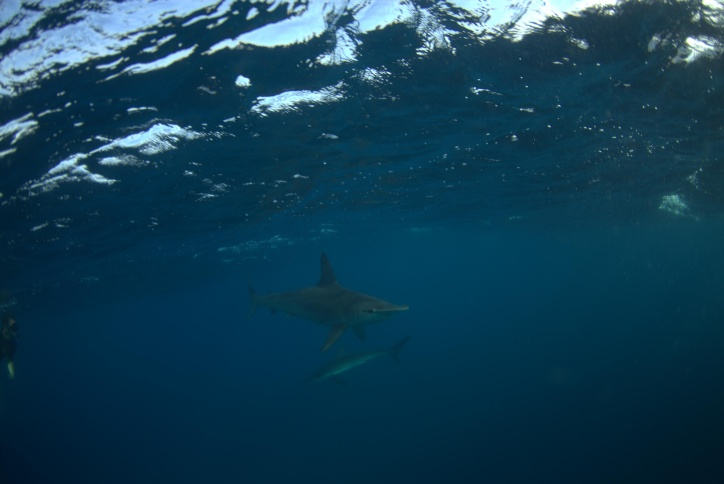Hammer: (219, 247, 434, 370)
